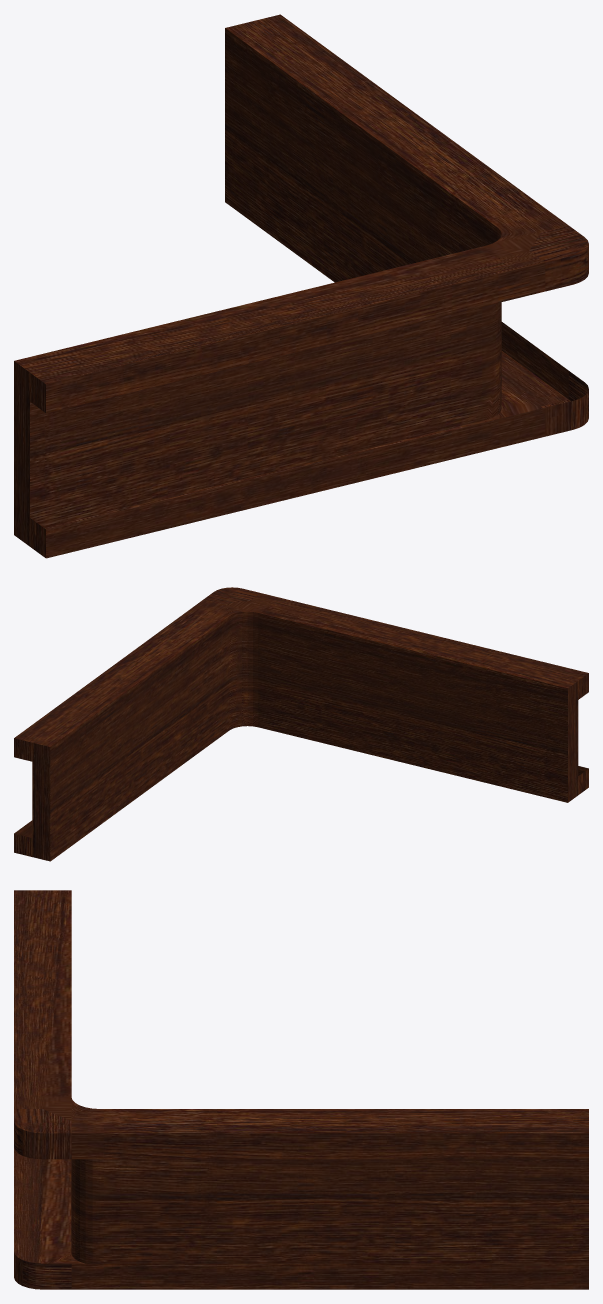
The model's file is border_corner_interior.fbx.
3 views of the same model, one above another, from view 1: azimuth 30°, elevation 25°; view 2: azimuth 150°, elevation 25°; view 3: azimuth 270°, elevation 25° (orthographic). The views are drawn at different scales.
Parts seen in each view (by area): view 1: border_corner_interior; view 2: border_corner_interior; view 3: border_corner_interior.
Part boxes in pixels (box(x1,y1,x2,y2)): border_corner_interior: box(14, 14, 588, 558); border_corner_interior: box(14, 587, 588, 861); border_corner_interior: box(14, 890, 588, 1289).
Size of the model in its own units: 200 by 60 by 200.
